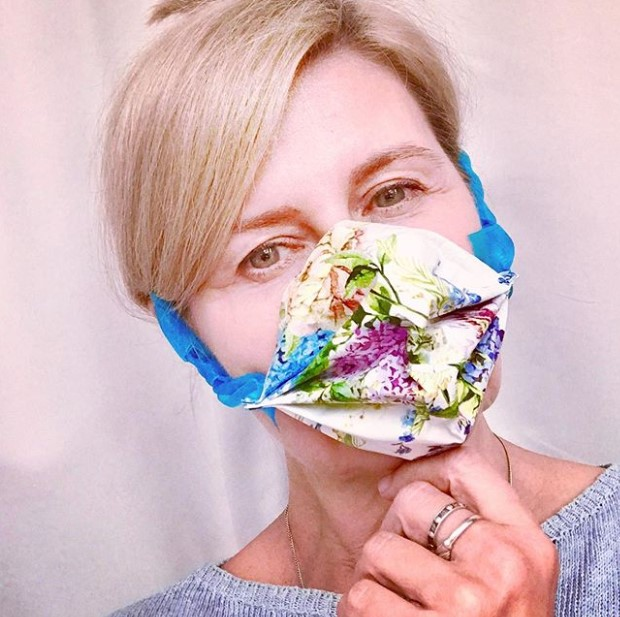face_with_mask: (104, 7, 514, 463)
